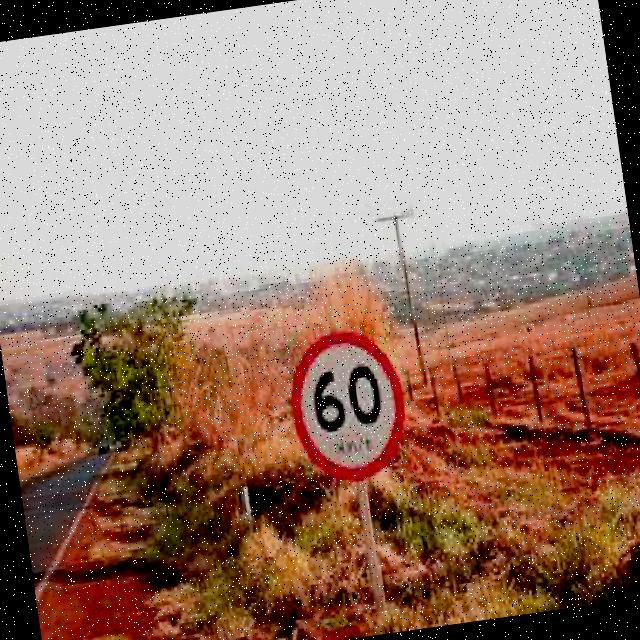Ograniczenie predkosci do 60: (280, 318, 426, 496)
